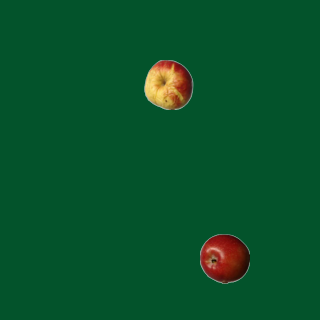Apple Braeburn: (199, 233, 249, 283)
Apple Red Yellow 1: (143, 59, 193, 109)
